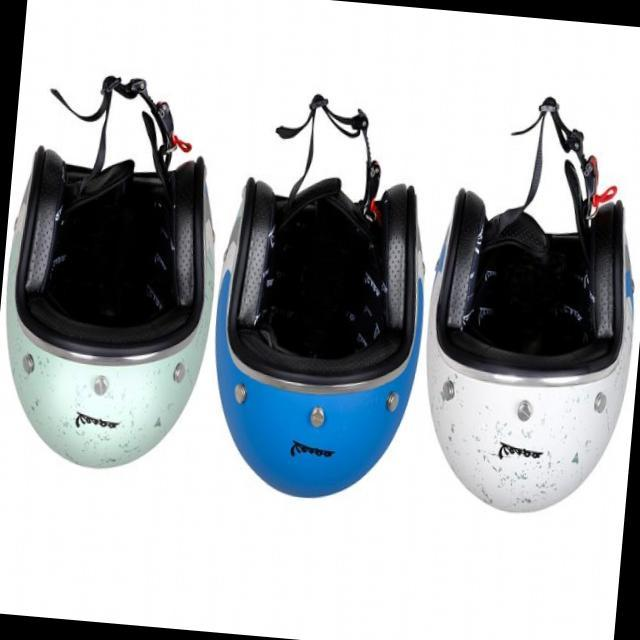Helm: (196, 86, 440, 515), (411, 86, 640, 527), (0, 65, 233, 483)
